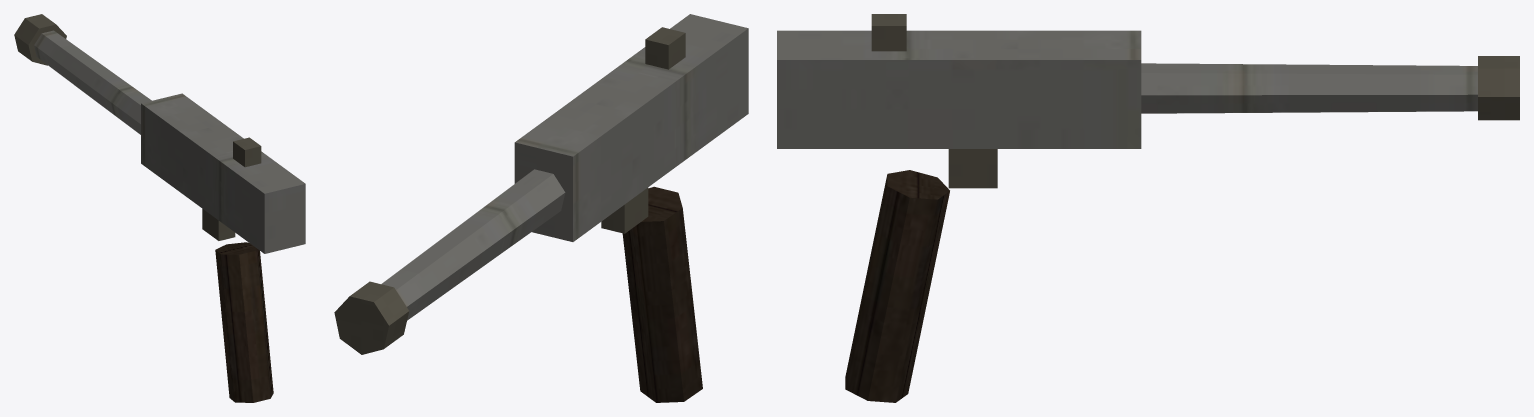
File: wpn_gun_common.glb
3 views of the same model, side by side, from view 1: azimuth 30°, elevation 25°; view 2: azimuth 150°, elevation 25°; view 3: azimuth 270°, elevation 25° (orthographic). The views are drawn at different scales.
Visible parts, largest first — view 1: wpn_gun_common; view 2: wpn_gun_common; view 3: wpn_gun_common.
Part boxes in pixels (<box>): wpn_gun_common: <box>14,14,305,402</box>; wpn_gun_common: <box>334,14,748,402</box>; wpn_gun_common: <box>777,14,1519,402</box>.
Size of the model in its own units: 0.05 by 0.2944 by 0.53.
3 materials, 3 textured.
